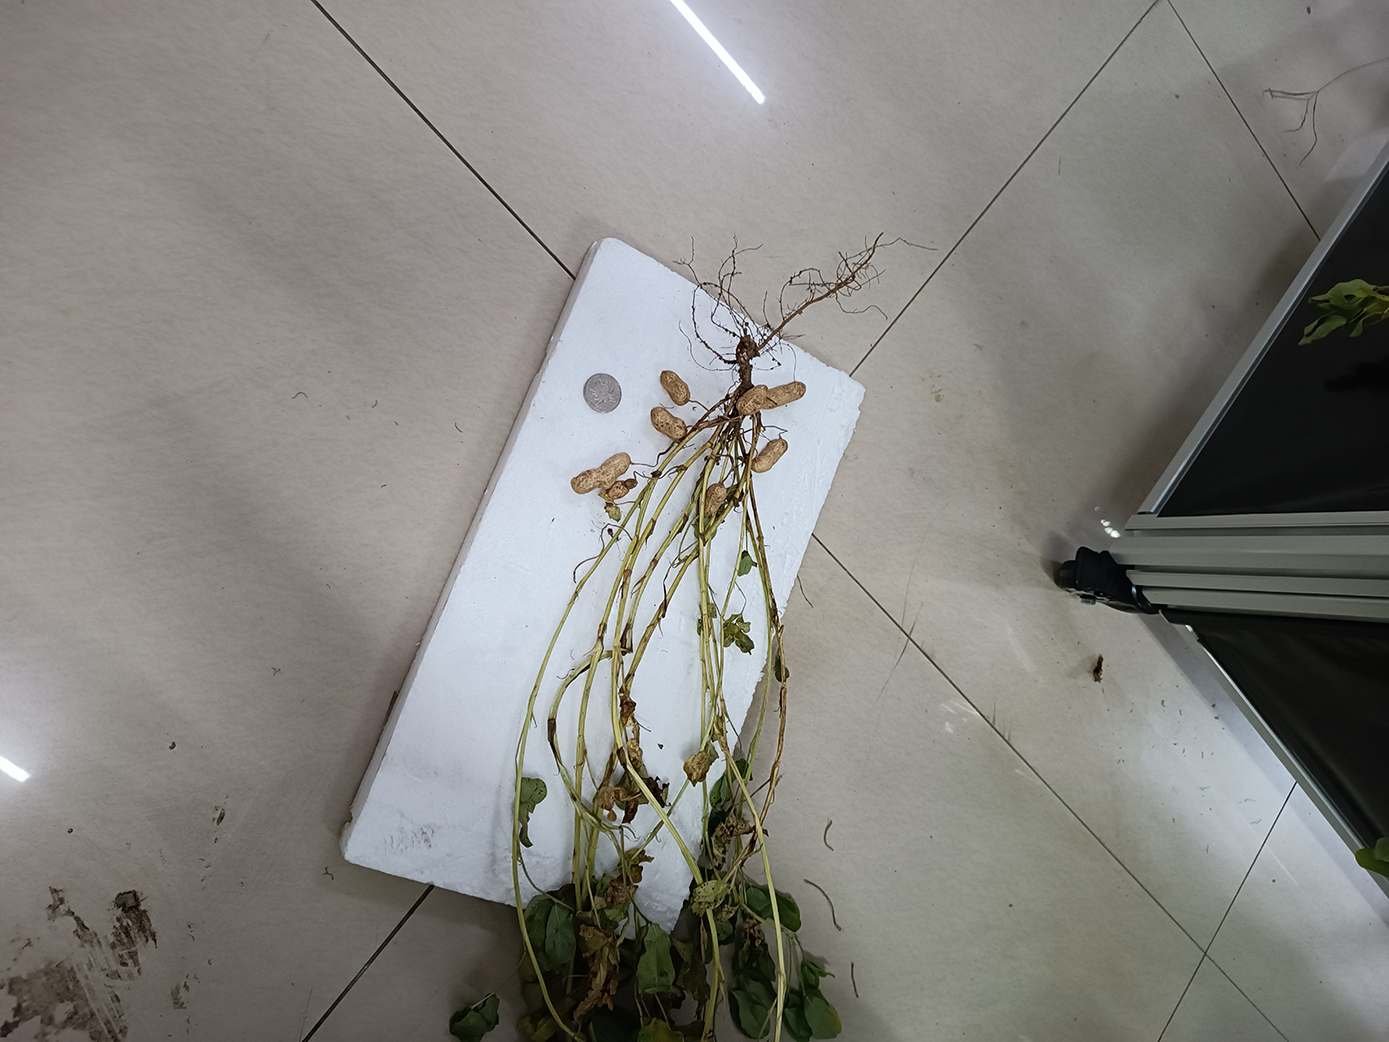h: (571, 452, 630, 494), (650, 406, 687, 440), (762, 382, 807, 409), (751, 439, 787, 473), (660, 369, 691, 405), (737, 384, 769, 416), (704, 483, 728, 516)
l: (607, 481, 638, 502)
